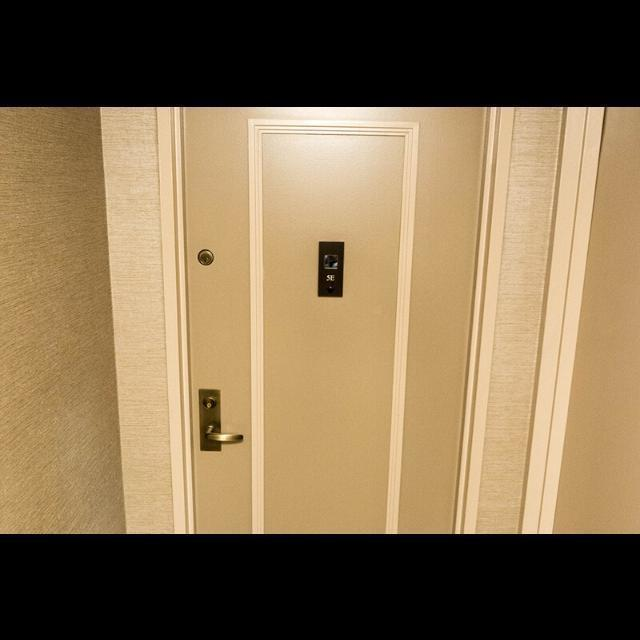door: (171, 105, 494, 534)
